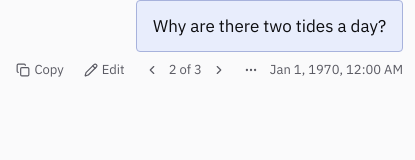
Test: the person's words › says why a retry or a version was refused, in an error notice with the server's words
Step 1. Click the button named "Next version of this message" → (219, 70), box [204,56,234,84]
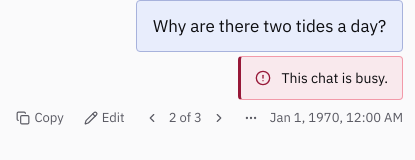
Check: the message reads "This chat is busy.", box [281,69,388,87]
